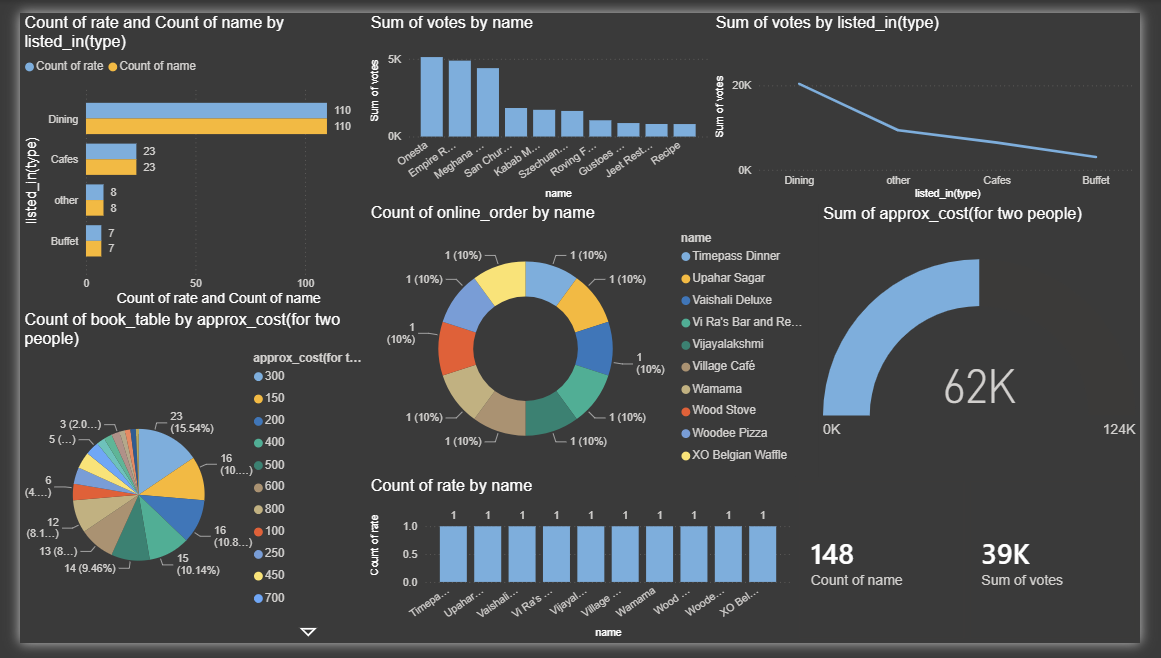

The page's visual inventory and layout, read from the dashboard file:
{"tool":"powerbi","page":{"name":"Page 1","canvas":[1280,720],"ordinal":0},"visuals":[{"type":"clusteredBarChart","fields":{"Category":["Zomato data.listed_in(type)"],"Y":["CountNonNull(Zomato data.rate)","CountNonNull(Zomato data.name)"]},"box":[0,0,395,340],"z":0},{"type":"lineChart","fields":{"Category":["Zomato data.listed_in(type)"],"Y":["Sum(Zomato data.votes)"]},"box":[790,0,490,218],"z":1000},{"type":"clusteredColumnChart","fields":{"Category":["Zomato data.name"],"Y":["CountNonNull(Zomato data.rate)"]},"box":[395.7,530,490,190],"z":2000},{"type":"pieChart","fields":{"Category":["Zomato data.approx_cost(for two people)"],"Y":["CountNonNull(Zomato data.book_table)"]},"box":[0,340,395.7,380],"z":3000},{"type":"donutChart","fields":{"Category":["Zomato data.name"],"Y":["CountNonNull(Zomato data.online_order)"]},"box":[395,217.5,517.5,312.5],"z":4000},{"type":"clusteredColumnChart","fields":{"Category":["Zomato data.name"],"Y":["Sum(Zomato data.votes)"]},"box":[395,0,395,218],"z":5000},{"type":"cardVisual","fields":{"Data":["CountNonNull(Zomato data.name)","Sum(Zomato data.votes)"]},"box":[885.7,530,394.3,190],"z":6000},{"type":"gauge","fields":{"Y":["Sum(Zomato data.approx_cost(for two people))"]},"box":[912.9,218.6,367.1,311.4],"z":7000}]}

Visuals, with their boxes in screenshot pixels (x1, y1, x2, y2), scaled from the page's 1280x720 canvas onto the 1161x658 screenshot:
clusteredBarChart - Zomato data.listed_in(type) x CountNonNull(Zomato data.rate): l=0, t=0, r=358, b=311
lineChart - Zomato data.listed_in(type) x Sum(Zomato data.votes): l=717, t=0, r=1160, b=199
clusteredColumnChart - Zomato data.name x CountNonNull(Zomato data.rate): l=359, t=484, r=803, b=657
pieChart - Zomato data.approx_cost(for two people) x CountNonNull(Zomato data.book_table): l=0, t=311, r=359, b=657
donutChart - Zomato data.name x CountNonNull(Zomato data.online_order): l=358, t=199, r=828, b=484
clusteredColumnChart - Zomato data.name x Sum(Zomato data.votes): l=358, t=0, r=717, b=199
cardVisual - CountNonNull(Zomato data.name) x Sum(Zomato data.votes): l=803, t=484, r=1160, b=657
gauge - Sum(Zomato data.approx_cost(for two people)): l=828, t=200, r=1160, b=484
